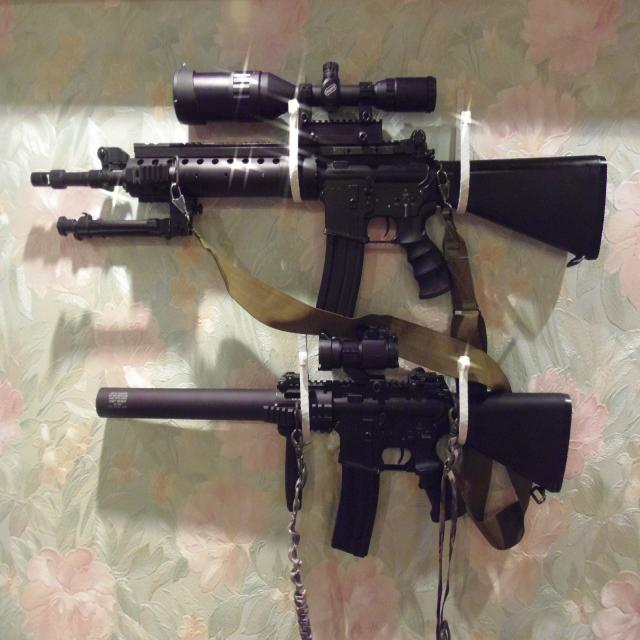firearm: (31, 59, 608, 333), (97, 326, 575, 557)
